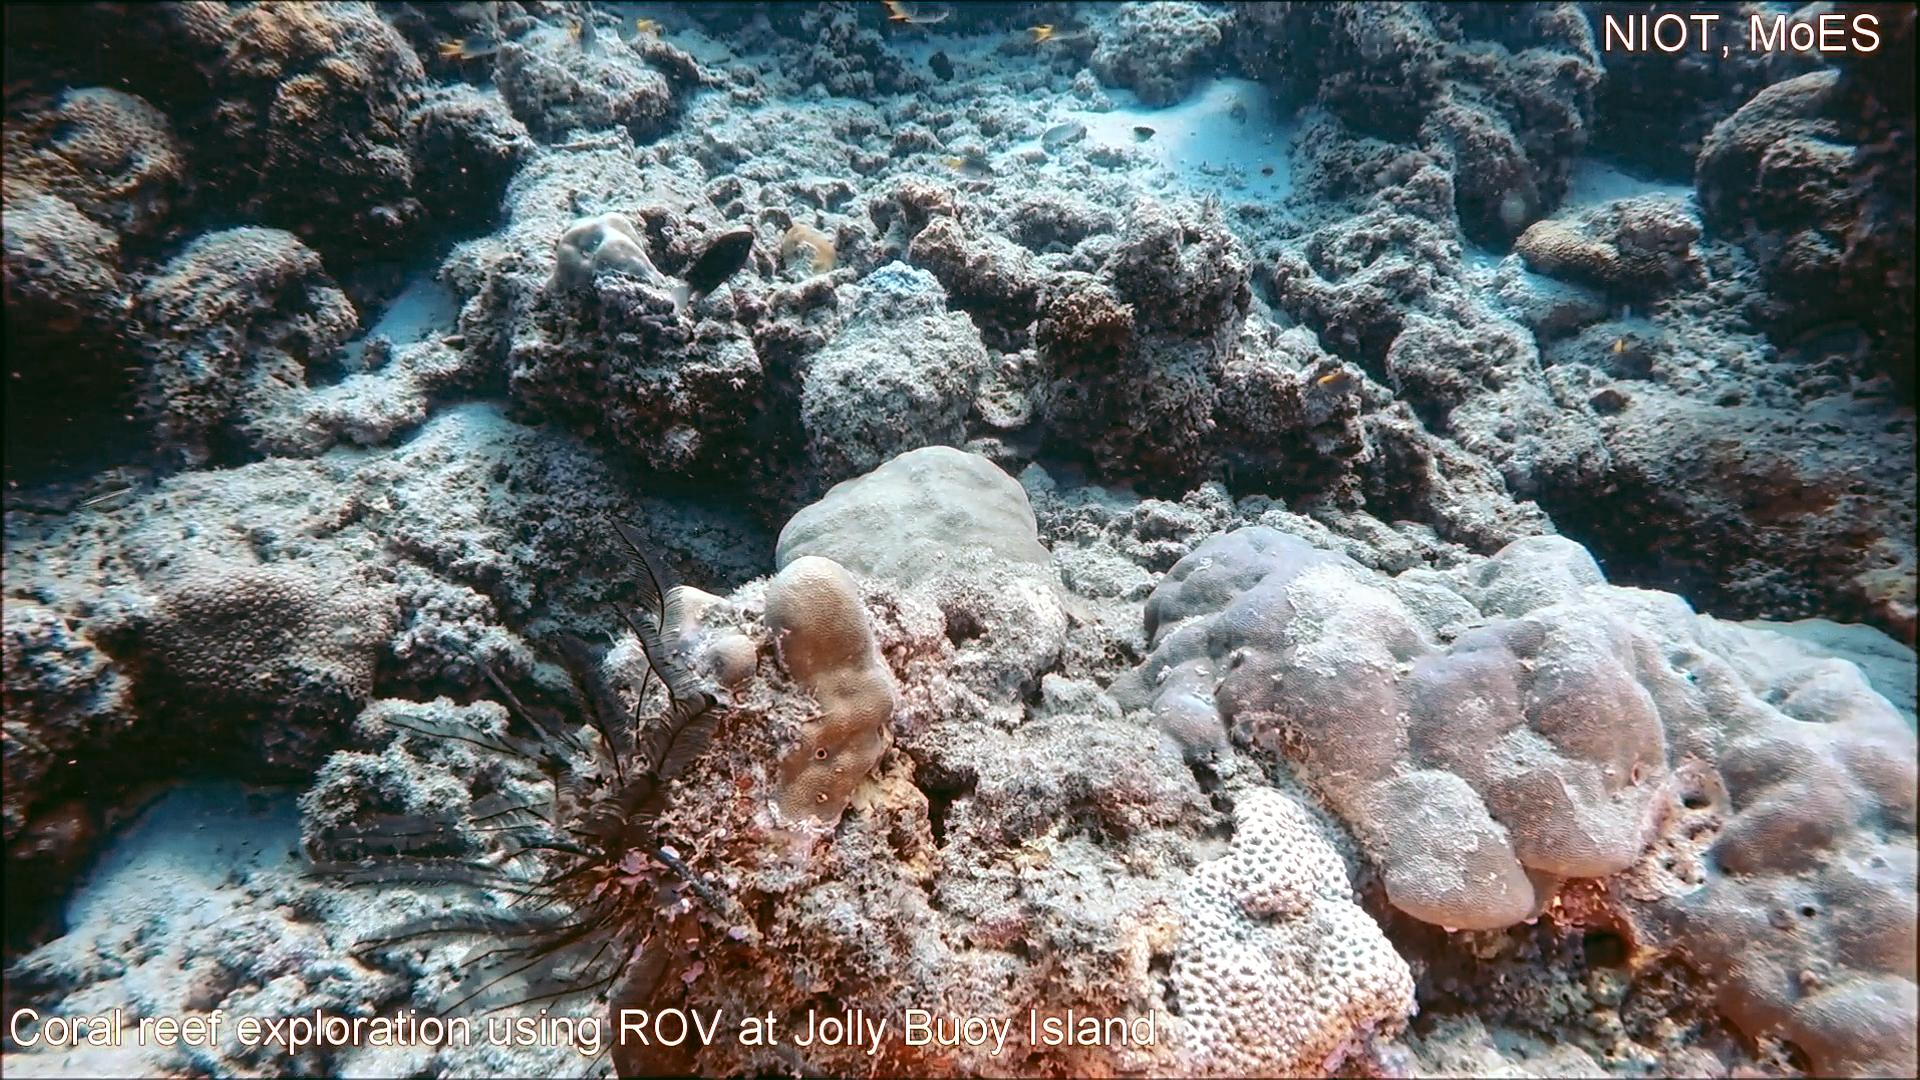Feather star-Crinoid star: (290, 510, 800, 1080)
Goniastrea-Goniastrea pectinata: (1166, 774, 1427, 1080)
Porites-Porites pukoensis: (1520, 529, 1920, 1080)
Turbinaria-Turbinaria stellulata: (109, 555, 397, 736)
